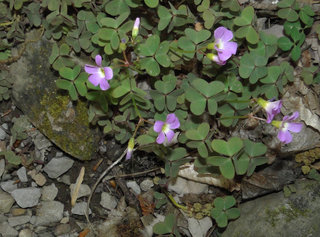oxalis: (84, 22, 300, 168)
